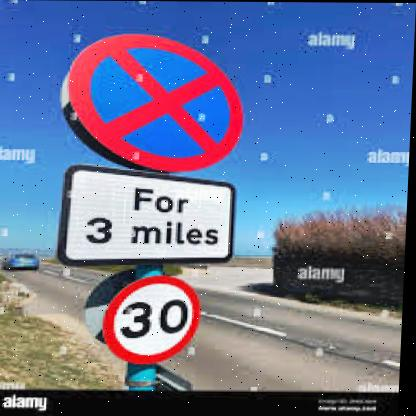No stopping: (74, 27, 253, 174)
